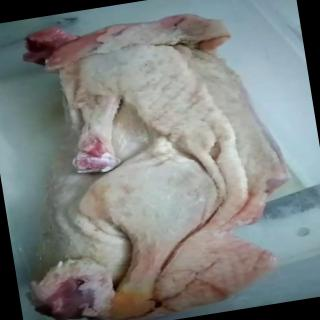Ayam: (1, 1, 310, 320)
